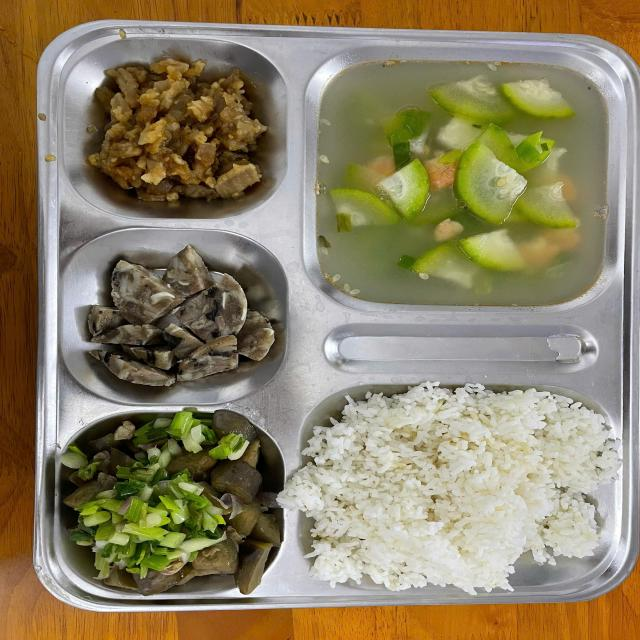canhbixanh: (315, 63, 601, 303)
catim: (73, 424, 275, 588)
giothu: (77, 246, 273, 387)
salad: (304, 390, 608, 582)
tomramthit: (88, 59, 279, 203)
